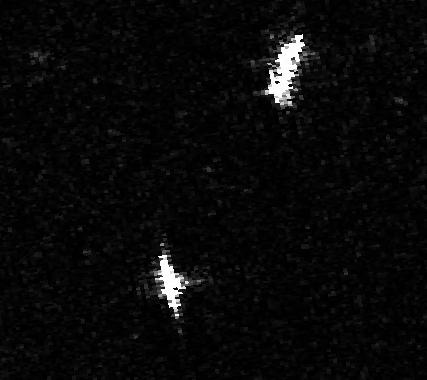ship: (261, 34, 306, 105), (151, 249, 192, 313)
